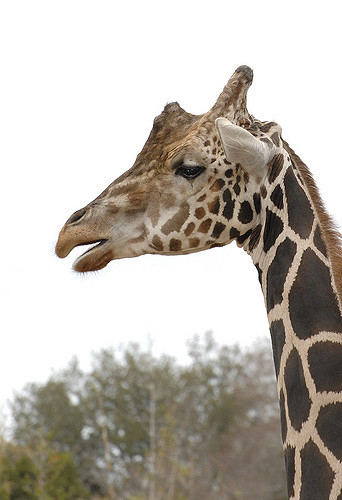giraffe: (57, 71, 337, 459)
